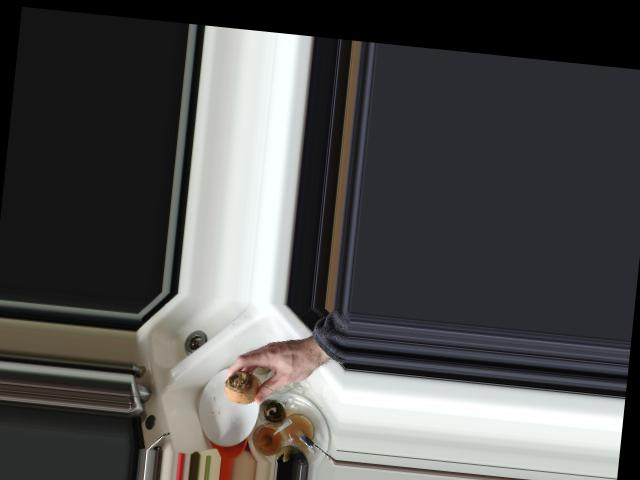sweet_potato: (221, 367, 269, 408)
